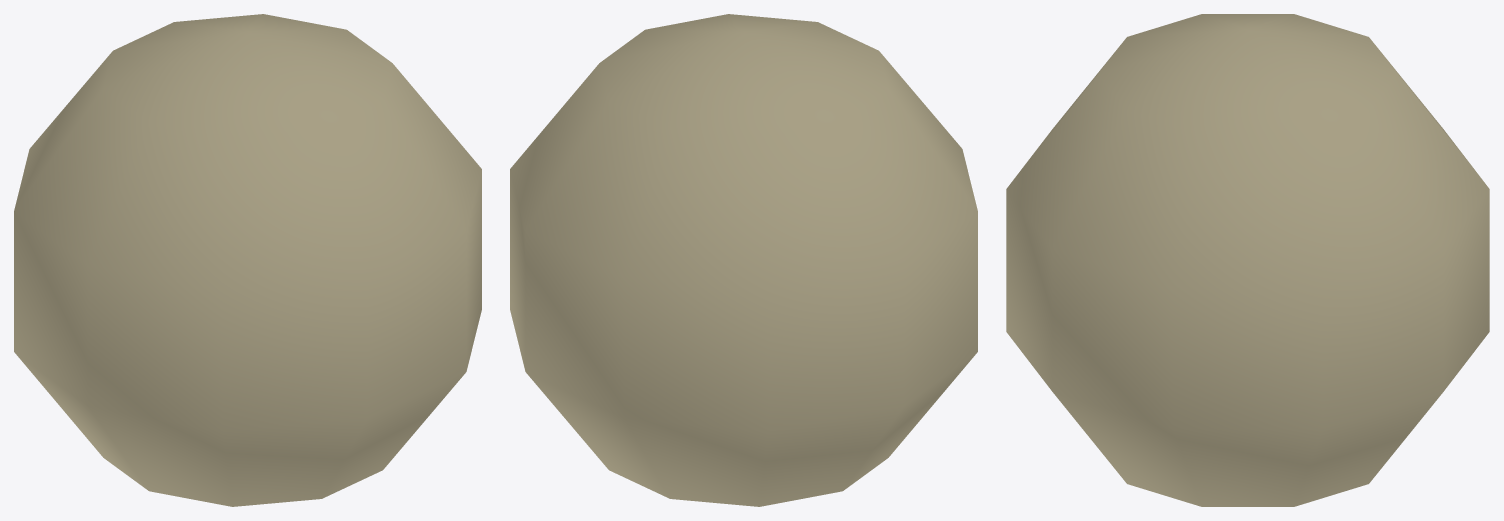
Rendered from mac.glb.
3 renders of one model, left to right at view 1: azimuth 30°, elevation 25°; view 2: azimuth 150°, elevation 25°; view 3: azimuth 270°, elevation 25°, orthographic.
Parts seen in each view (by area): view 1: Object_3; view 2: Object_3; view 3: Object_3.
Boxes of the visible parts, x1=… form: Object_3: x1=14, y1=14, x2=481, y2=506; Object_3: x1=510, y1=14, x2=977, y2=506; Object_3: x1=1006, y1=14, x2=1489, y2=506.
Size of the model in its own units: 1809 by 2000 by 1902.
